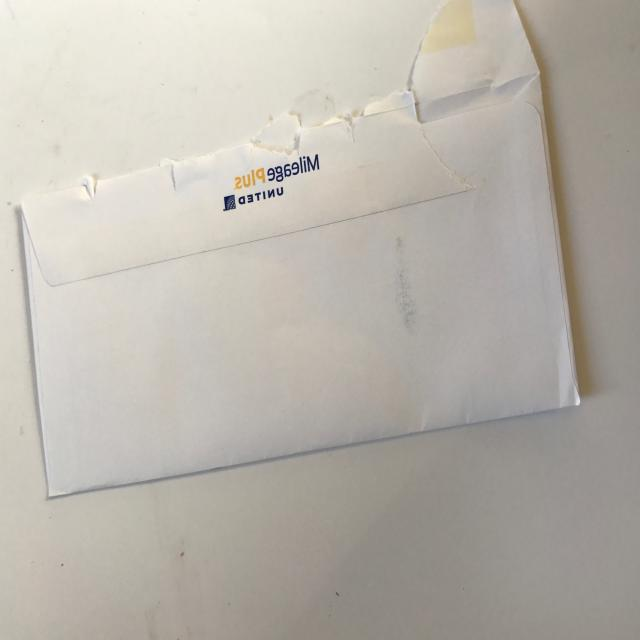paper: (0, 0, 608, 559)
